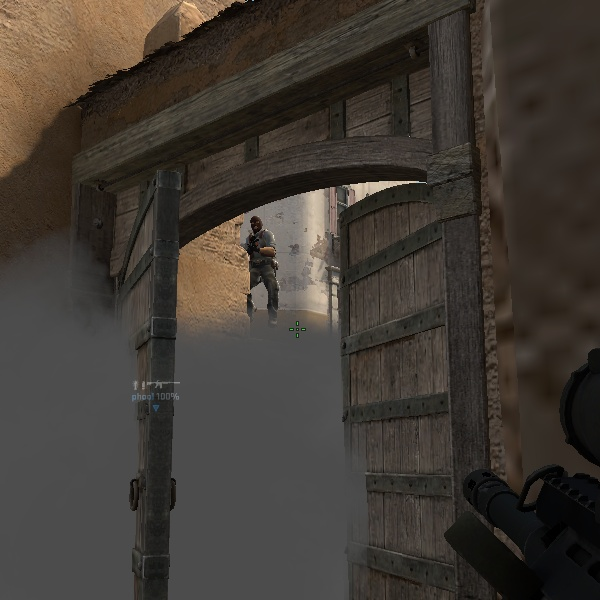t_body: (243, 215, 280, 326)
t_head: (250, 216, 263, 235)
